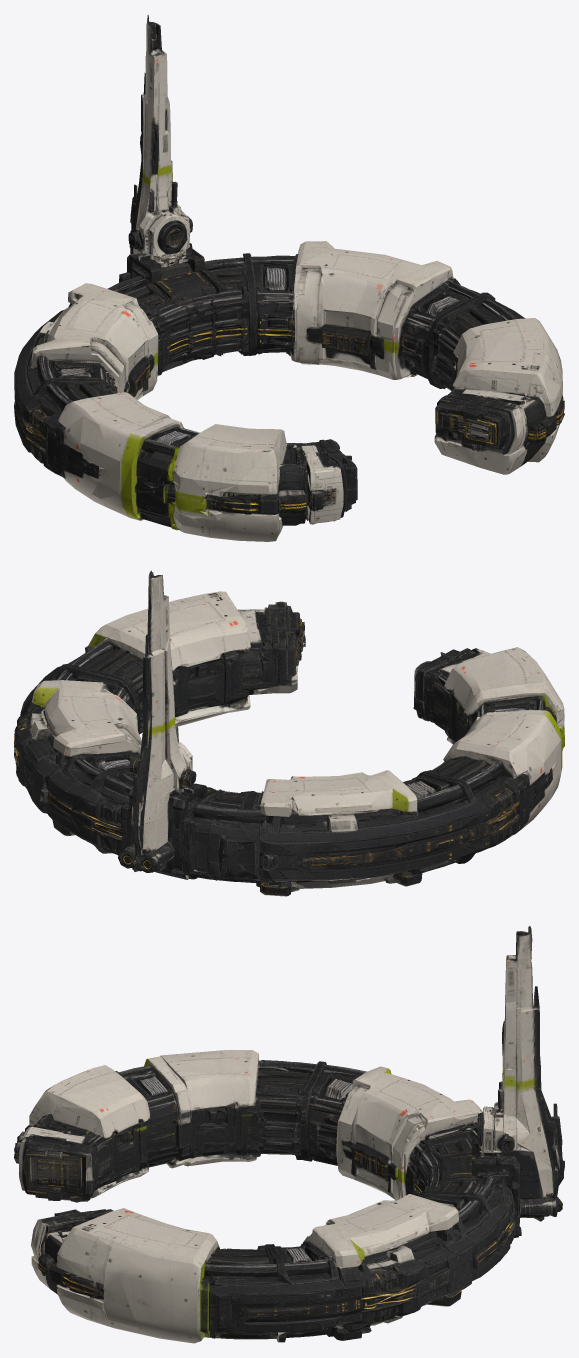
Rendered from v4-gate.glb.
The picture shows the model from 3 angles, top to bottom: view 1: azimuth 30°, elevation 25°; view 2: azimuth 150°, elevation 25°; view 3: azimuth 270°, elevation 25°; orthographic projection.
Parts seen in each view (by area): view 1: gate_body_00; view 2: gate_body_00; view 3: gate_body_00.
Boxes of the visible parts, <box> form: gate_body_00: <box>14,15,564,541</box>; gate_body_00: <box>14,570,564,896</box>; gate_body_00: <box>14,926,564,1343</box>.
Size of the model in its own units: 0.9783 by 0.6365 by 1.
Materials: 1 (1 with a texture image).
